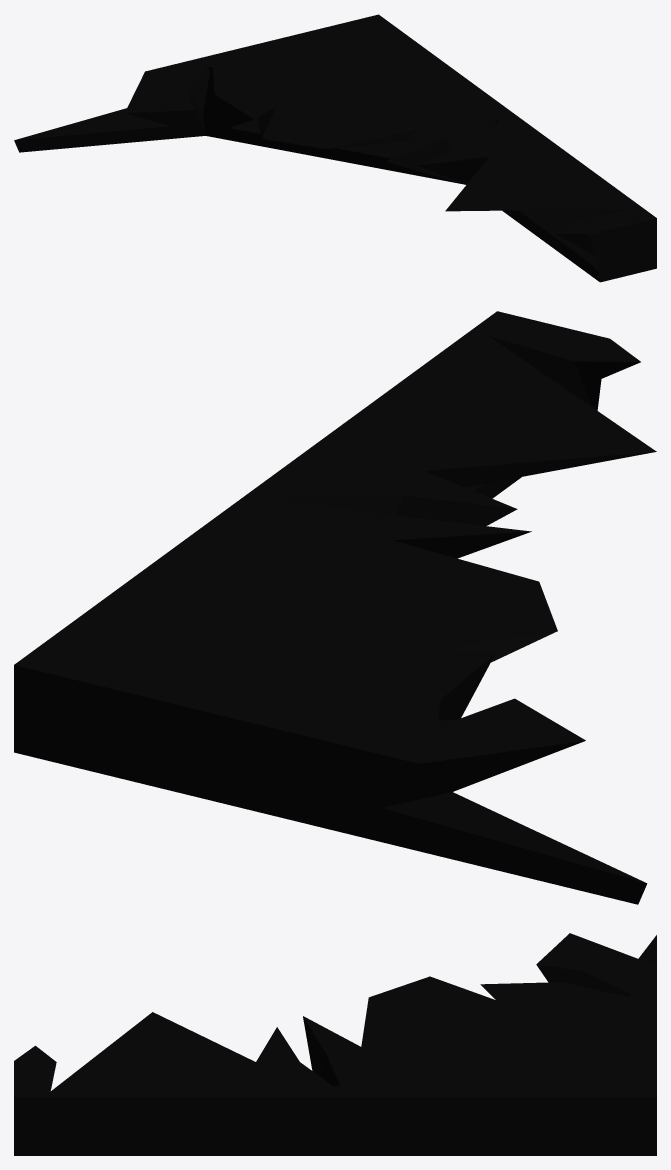
The model's file is Mod_Tile_08_Broken_02.fbx.
The picture shows the model from 3 angles, top to bottom: view 1: azimuth 30°, elevation 25°; view 2: azimuth 150°, elevation 25°; view 3: azimuth 270°, elevation 25°; orthographic projection. The views are drawn at different scales.
Parts seen in each view (by area): view 1: Mod_Tile_08_Broken_02; view 2: Mod_Tile_08_Broken_02; view 3: Mod_Tile_08_Broken_02.
Part boxes in pixels (x1,y1,x2,y2): Mod_Tile_08_Broken_02: (14, 14, 656, 282); Mod_Tile_08_Broken_02: (14, 311, 656, 904); Mod_Tile_08_Broken_02: (14, 933, 656, 1155).
Size of the model in its own units: 75.68 by 10 by 100.
